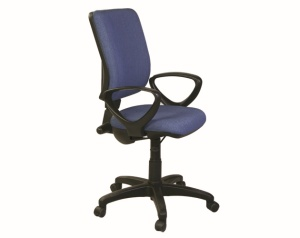chair: (87, 8, 220, 232)
